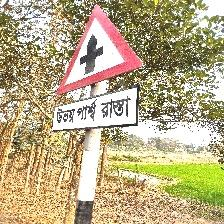Crossroad: (49, 0, 142, 128)
